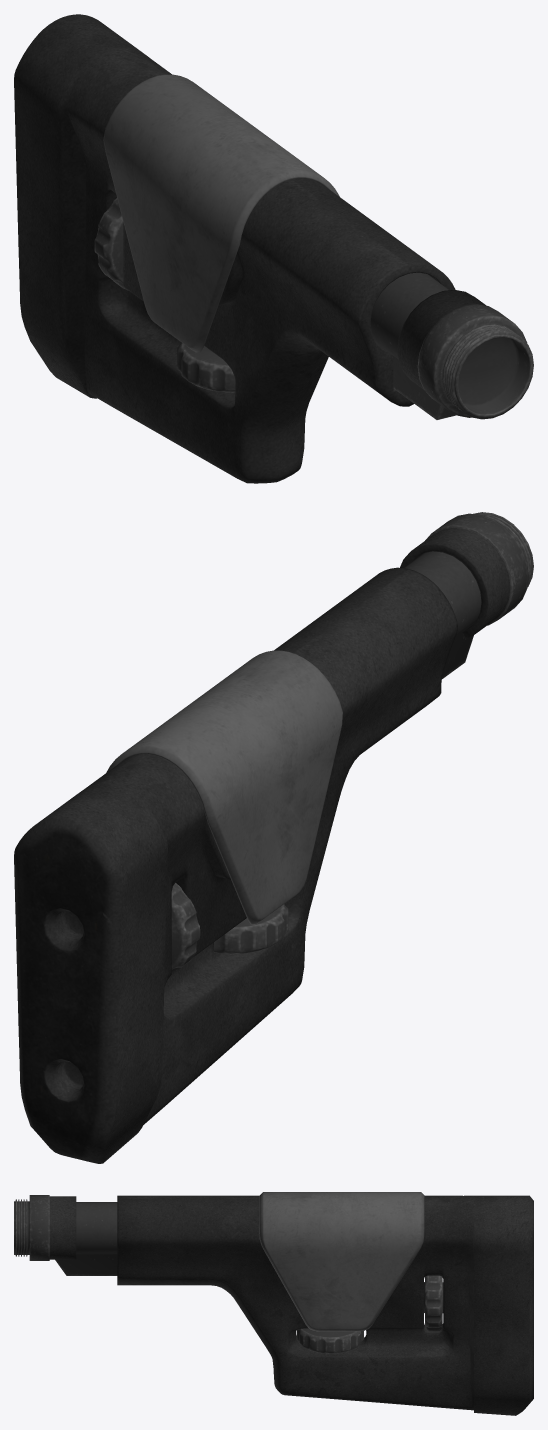
The model's file is mab_gen2_stock.glb.
3 views of the same model, one above another, from view 1: azimuth 30°, elevation 25°; view 2: azimuth 150°, elevation 25°; view 3: azimuth 270°, elevation 25° (orthographic). The views are drawn at different scales.
Visible parts, largest first — view 1: Mesh_Default_0; view 2: Mesh_Default_0; view 3: Mesh_Default_0.
Boxes of the visible parts, <box> form: Mesh_Default_0: <box>14,14,533,483</box>; Mesh_Default_0: <box>14,512,533,1163</box>; Mesh_Default_0: <box>14,1192,533,1415</box>.
Size of the model in its own units: 0.0441 by 0.1351 by 0.2965.
1 material, 1 textured.
